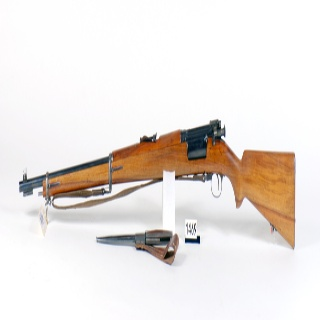rifle: (19, 114, 297, 250)
